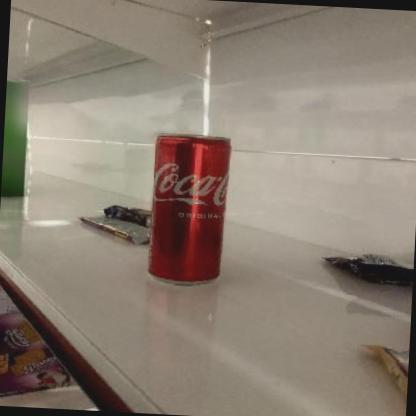alumunium_can: (145, 129, 234, 288)
